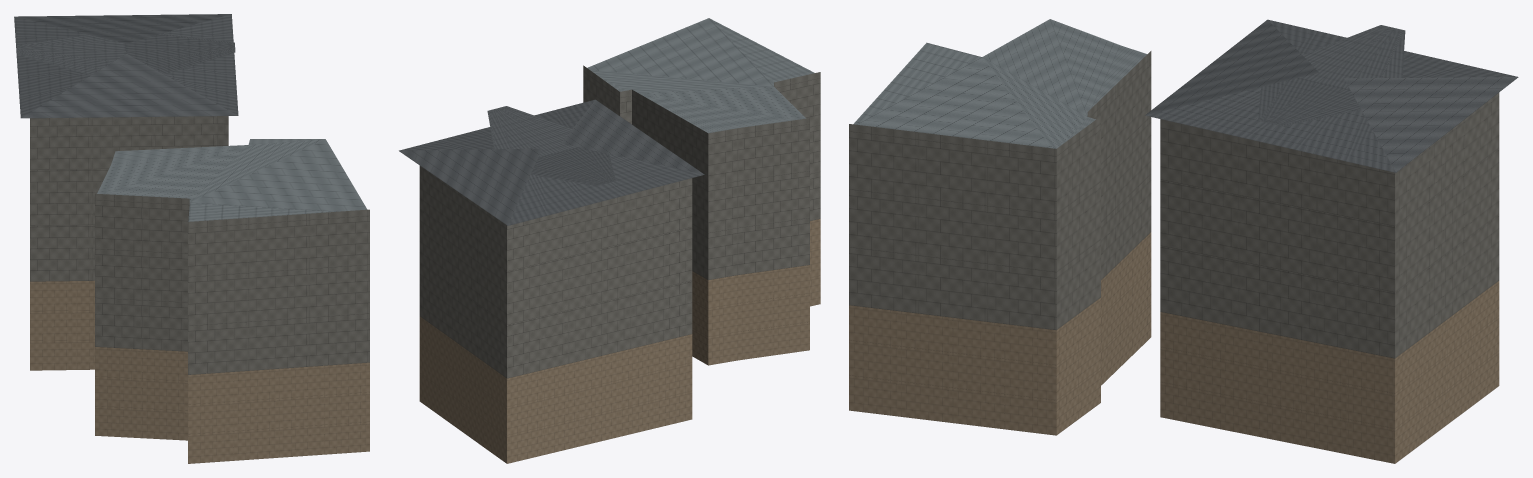
The model's file is bld_c40_-49_465.gltf.
3 renders of one model, left to right at view 1: azimuth 30°, elevation 25°; view 2: azimuth 150°, elevation 25°; view 3: azimuth 270°, elevation 25°, orthographic. The views are drawn at different scales.
Visible parts, largest first — view 1: bld_c40_-49_465; view 2: bld_c40_-49_465; view 3: bld_c40_-49_465.
Boxes of the visible parts, x1,y1,x2,y2 form: bld_c40_-49_465: [14, 14, 369, 463]; bld_c40_-49_465: [399, 18, 820, 463]; bld_c40_-49_465: [849, 19, 1518, 463].
Bounding box in the file's own units: 16.97 × 15.7 × 29.38.
Materials: 5 (5 with a texture image).
